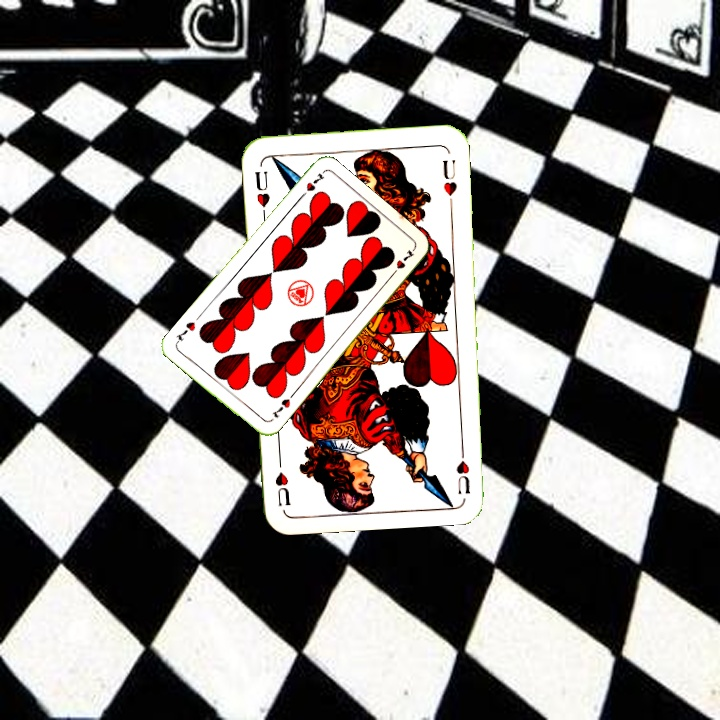H7: (295, 169, 327, 202), (268, 395, 293, 421)
HU: (453, 439, 473, 497), (251, 166, 272, 210)
